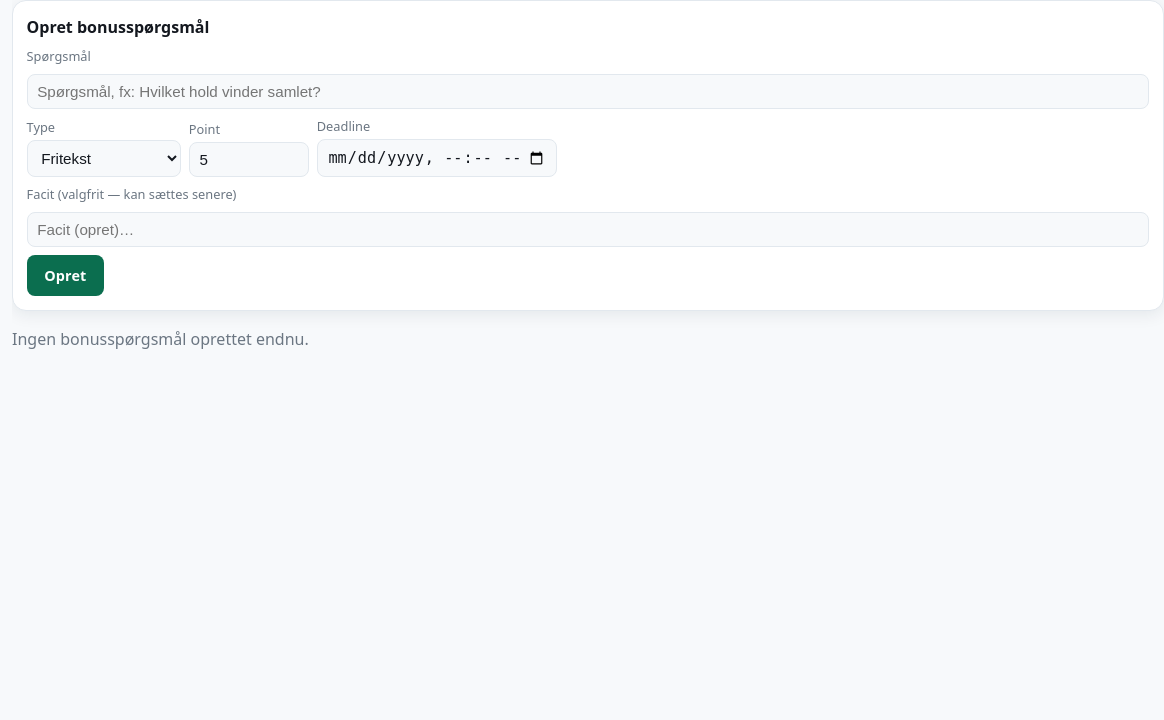
BonusTab › skifter facit-input til hold-checkboxliste ved type teams
Select "Hold (vælg flere)" in the dropdown with test id "bonus-new-type" at (104, 159), box [27, 140, 181, 177]
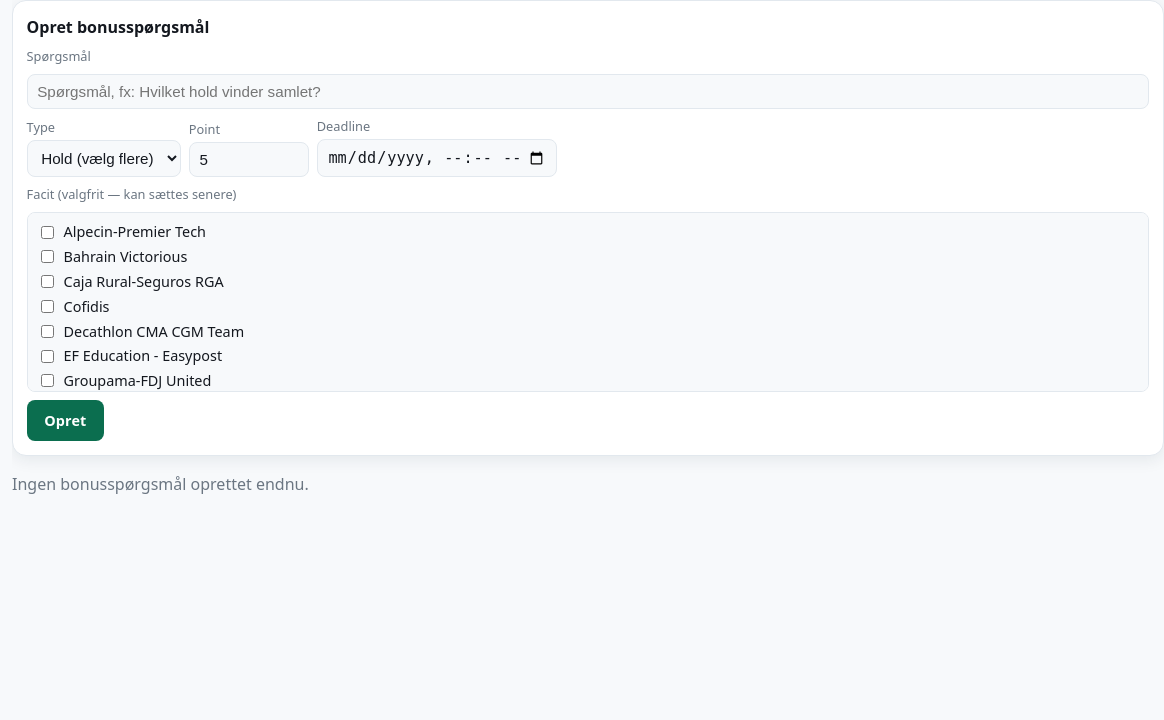
Now the element with test id "bonus-new-facit-teams" is shown, box [27, 212, 1149, 392]
